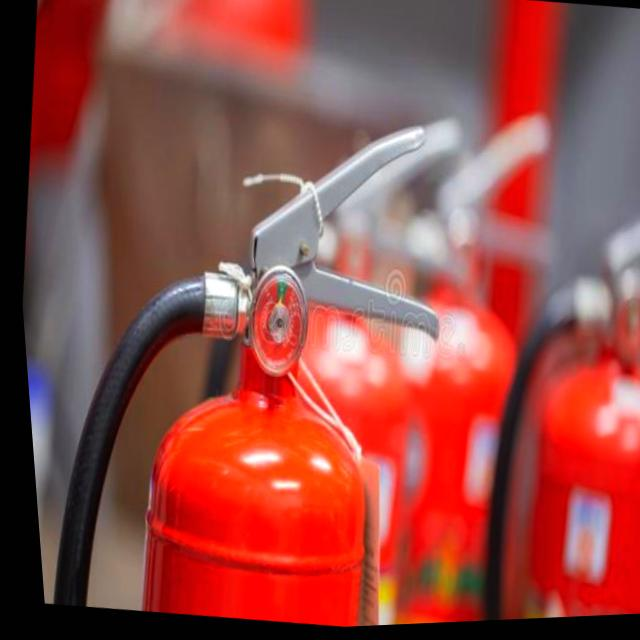FireExtinguisher: (6, 78, 478, 640)
